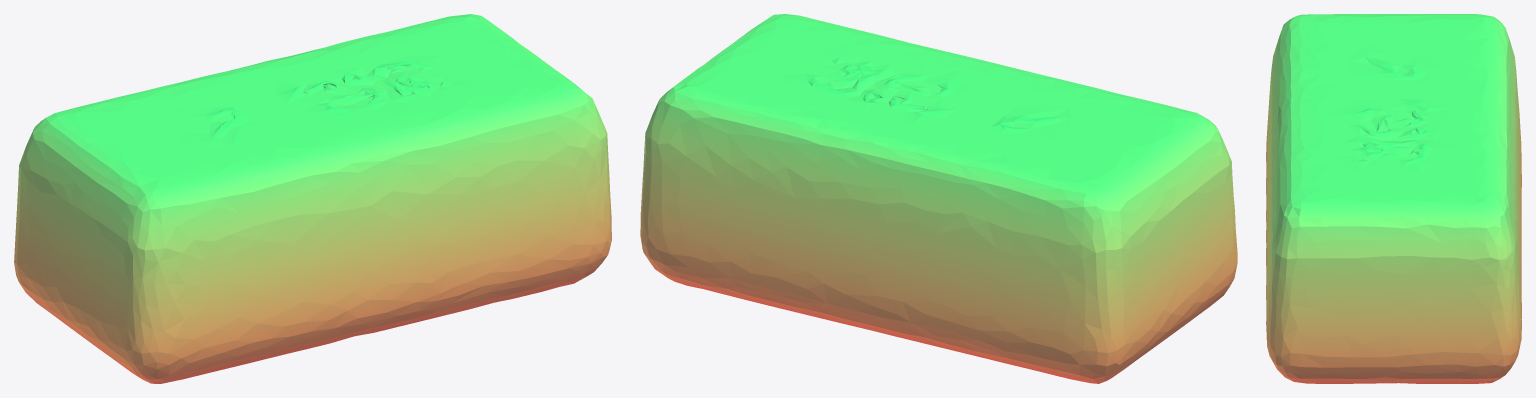
File: 23_cyb_laser_gradient_fish_scales_2920_2026_10_03_4ed4a7.glb
The picture shows the model from 3 angles, left to right: view 1: azimuth 30°, elevation 25°; view 2: azimuth 150°, elevation 25°; view 3: azimuth 270°, elevation 25°; orthographic projection. The views are drawn at different scales.
Visible parts, largest first — view 1: geometry_0; view 2: geometry_0; view 3: geometry_0.
Boxes of the visible parts, left/top/right/bottom form: geometry_0: left=14, top=14, right=611, bottom=383; geometry_0: left=640, top=14, right=1237, bottom=383; geometry_0: left=1266, top=14, right=1521, bottom=383.
Size of the model in its own units: 1 by 0.3876 by 0.497.
